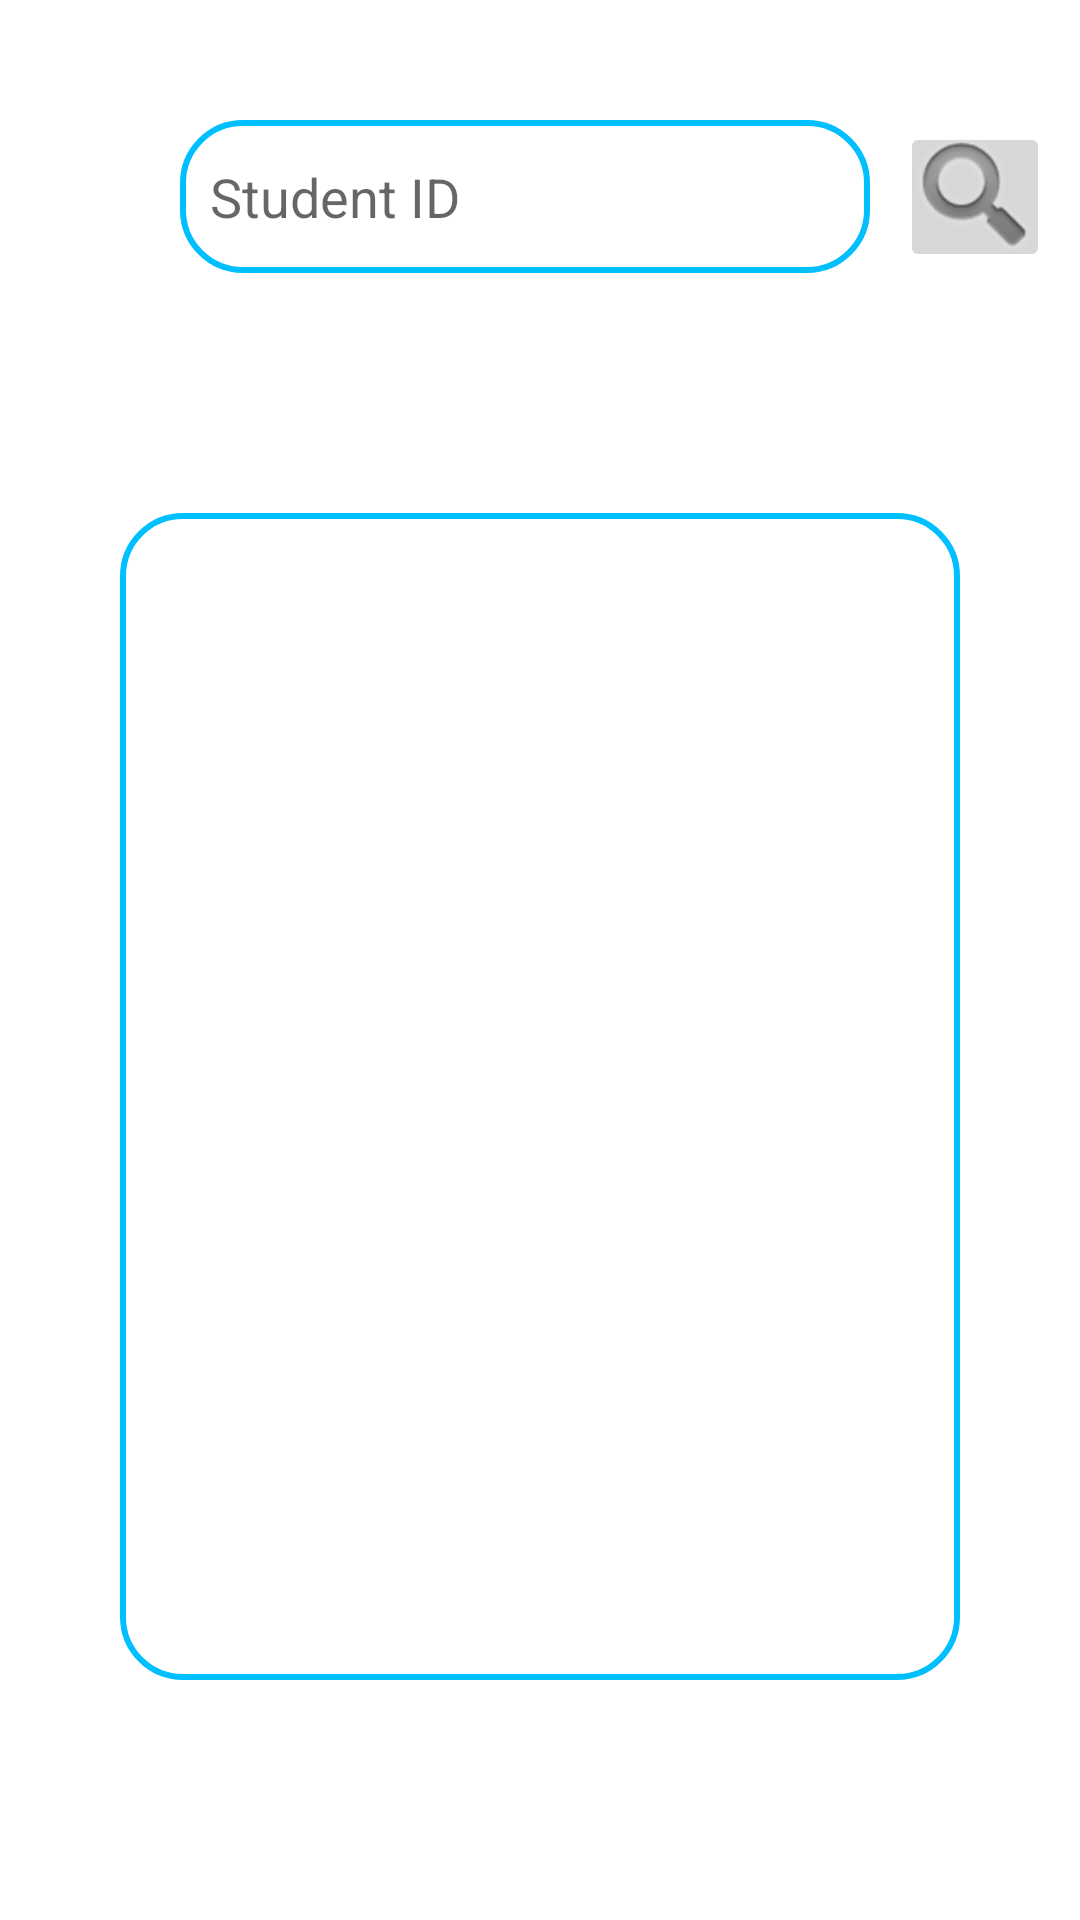

Icon bounding boxes for this 1080px x 1920px phone screenshot, format (x1, y1, x2, y2):
search category: (912, 140, 1038, 254)
